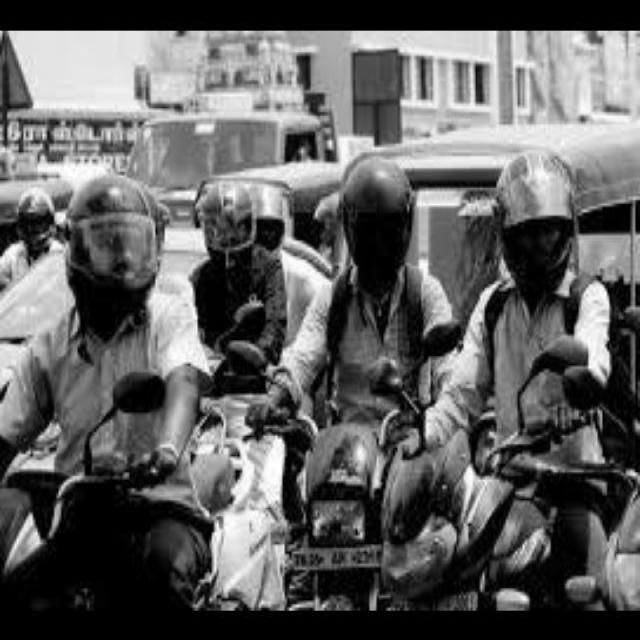5_casco: (491, 148, 575, 296)
